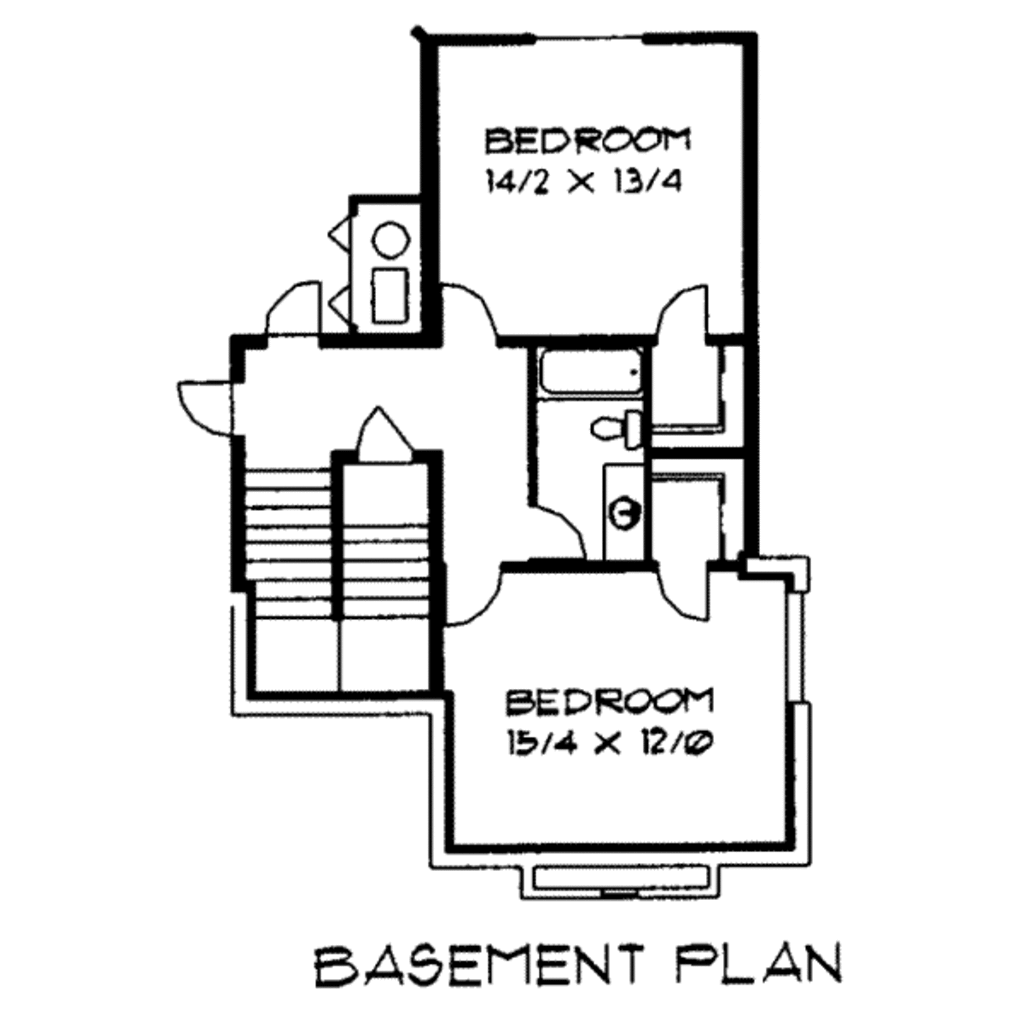door: (245, 274, 329, 344), (646, 560, 724, 630), (168, 374, 246, 444), (351, 398, 422, 470), (649, 278, 722, 346), (445, 281, 506, 357), (519, 505, 589, 566), (441, 565, 503, 627)
large_sink: (568, 389, 649, 454)
small_sink: (597, 470, 648, 557)
stairs: (243, 462, 437, 698)
tub: (537, 354, 651, 397)
window: (538, 28, 630, 46)
